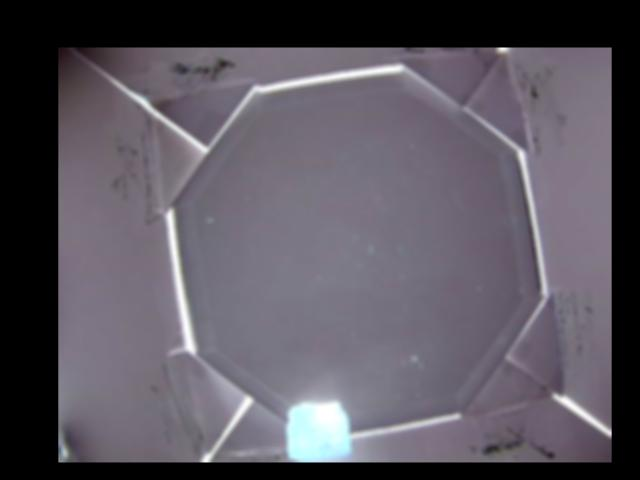Brisk: (287, 401, 350, 459)
